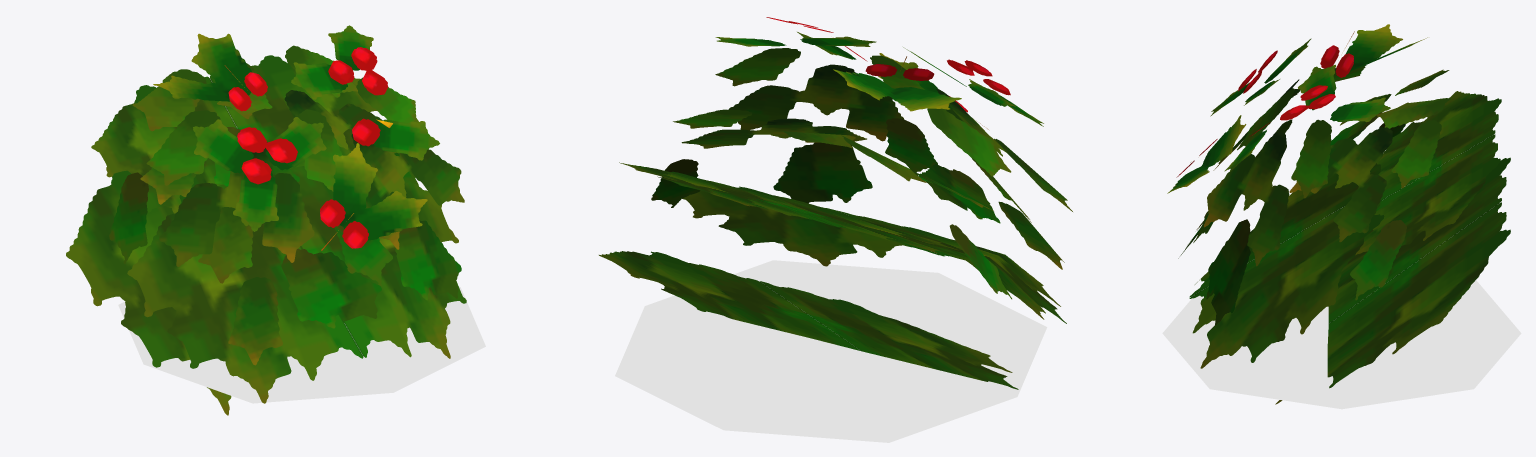
File: fg_bushA_2.fbx
3 renders of one model, left to right at view 1: azimuth 30°, elevation 25°; view 2: azimuth 150°, elevation 25°; view 3: azimuth 270°, elevation 25°, orthographic. The views are drawn at different scales.
Parts seen in each view (by area): view 1: fg_bushA_2, sdw_circle; view 2: fg_bushA_2, sdw_circle; view 3: fg_bushA_2, sdw_circle.
Boxes of the visible parts, x1,y1,x2,y2 form: fg_bushA_2: (66, 25, 466, 415); sdw_circle: (118, 286, 485, 403); fg_bushA_2: (599, 17, 1072, 389); sdw_circle: (615, 260, 1047, 442); fg_bushA_2: (1167, 24, 1510, 404); sdw_circle: (1162, 280, 1521, 409).
Size of the model in its own units: 0.1322 by 0.118 by 0.1225.
